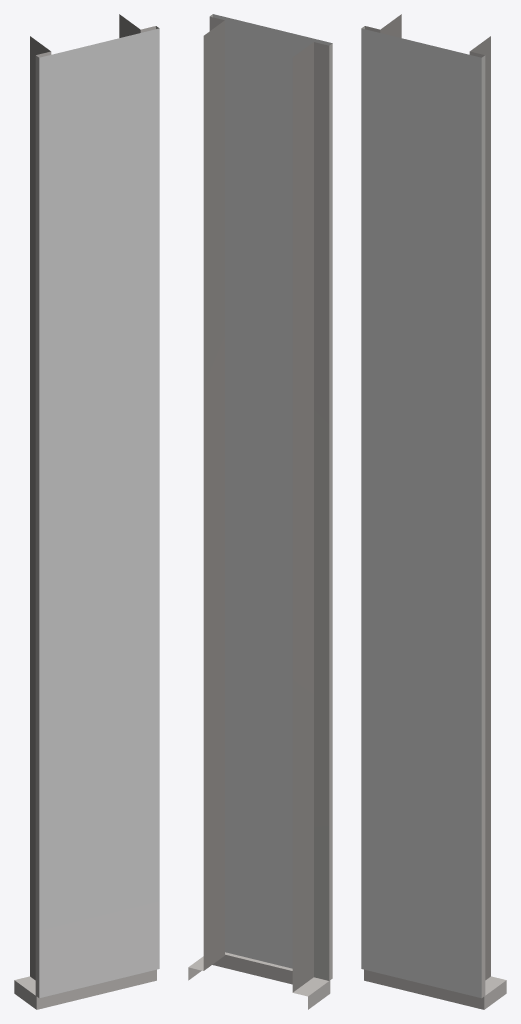
The model's file is MMo_W_001_COL_a_1x10.fbx.
3 views of the same model, side by side, from view 1: azimuth 30°, elevation 25°; view 2: azimuth 150°, elevation 25°; view 3: azimuth 330°, elevation 25° (orthographic).
Visible parts, largest first — view 1: MMo_W_001_COL_a_1x10; view 2: MMo_W_001_COL_a_1x10; view 3: MMo_W_001_COL_a_1x10.
Boxes of the visible parts, x1,y1,x2,y2 form: MMo_W_001_COL_a_1x10: (14, 14, 159, 1009); MMo_W_001_COL_a_1x10: (188, 14, 332, 1009); MMo_W_001_COL_a_1x10: (361, 14, 506, 1009).
Bounding box in the file's own units: 1.4 × 10.6 × 0.5.
